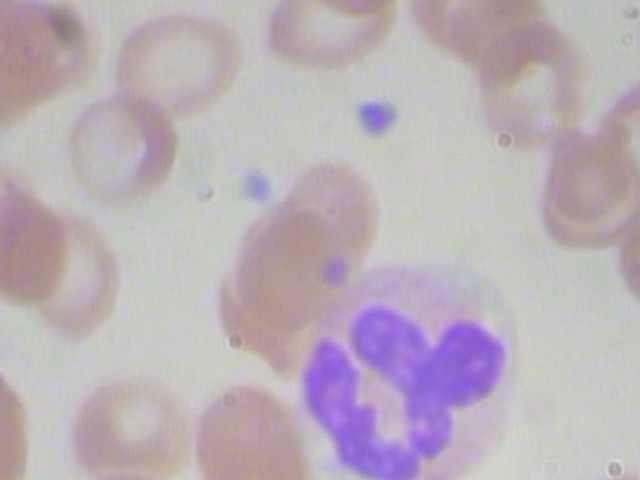Platelets: (229, 154, 280, 206), (352, 92, 402, 143)
RBC: (5, 207, 136, 350), (466, 19, 602, 149), (53, 78, 189, 205), (106, 0, 242, 124), (58, 371, 194, 480), (261, 0, 401, 71), (612, 186, 640, 316), (294, 0, 433, 16), (629, 0, 640, 113)
WBC: (283, 258, 552, 480)
